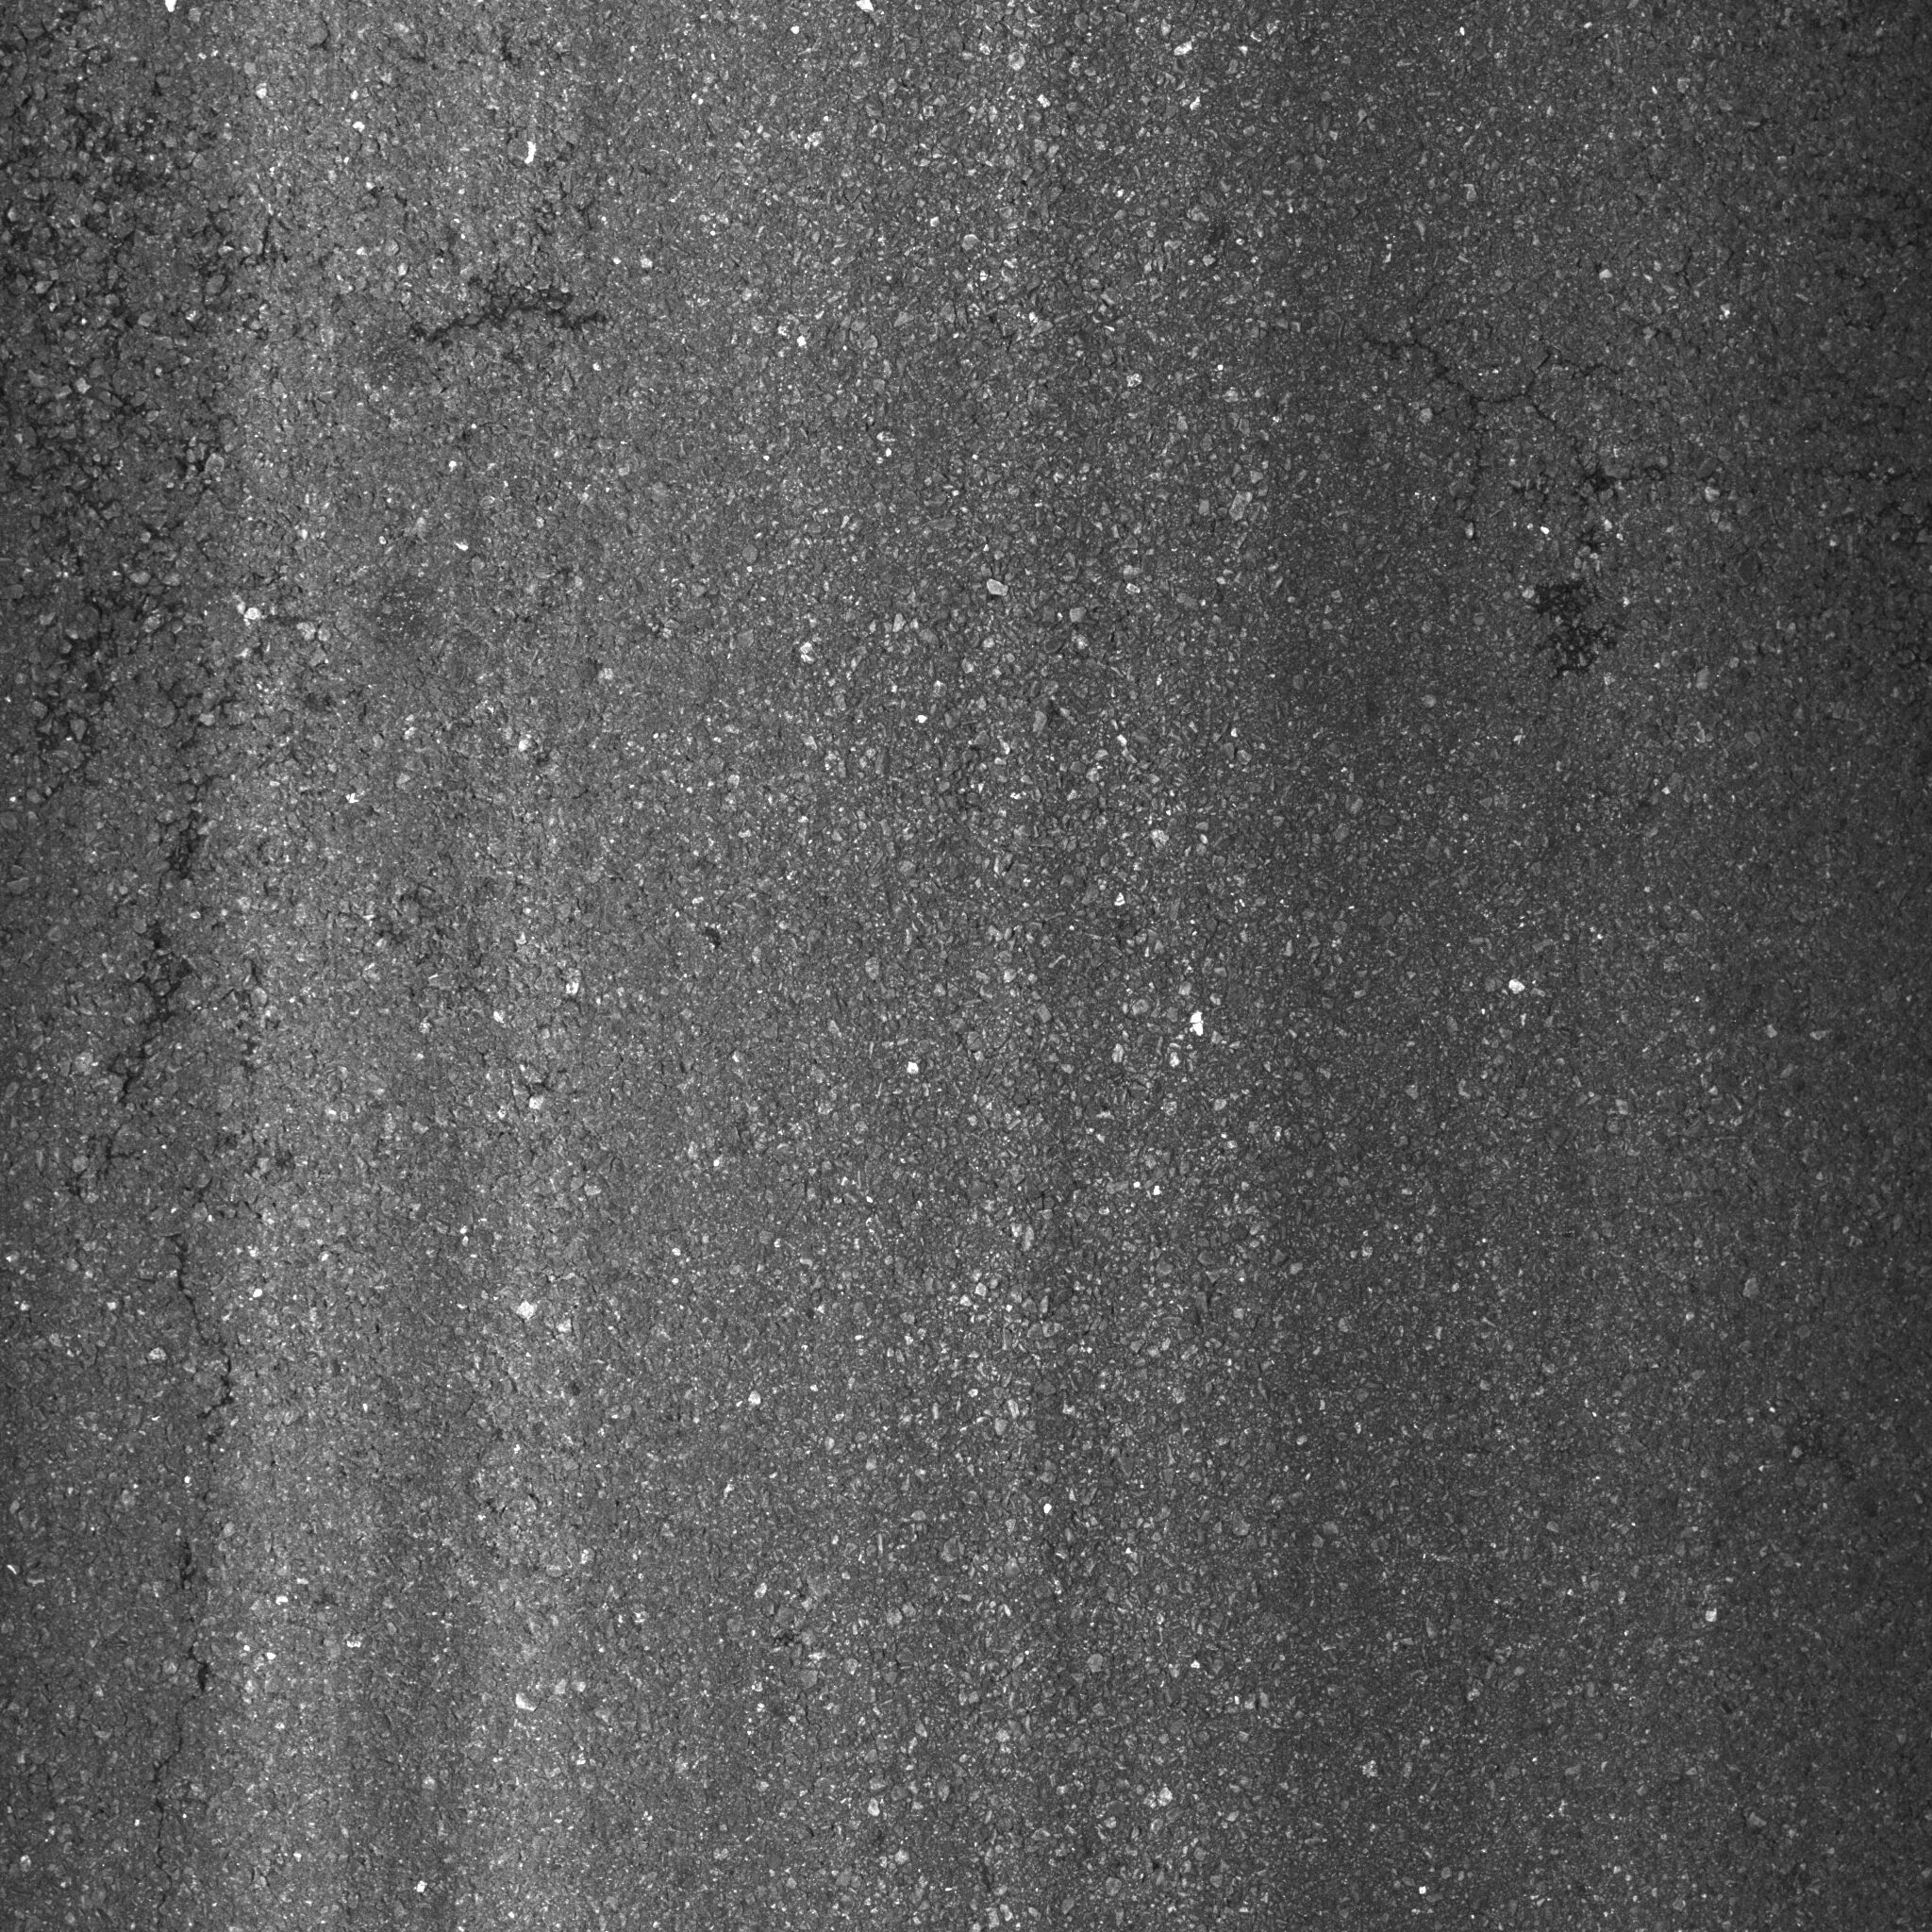transeverse: (81, 681, 288, 1870), (1345, 292, 1907, 518)
